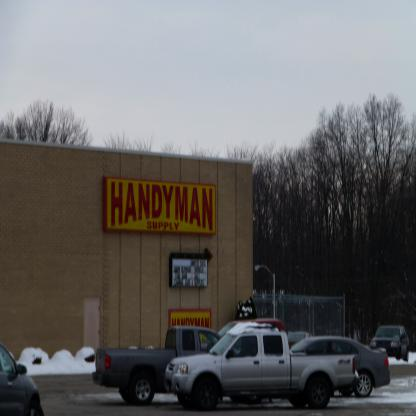Car: (290, 333, 390, 397), (0, 338, 44, 416), (370, 324, 409, 360)
Truck: (170, 324, 384, 412), (91, 325, 221, 411)
